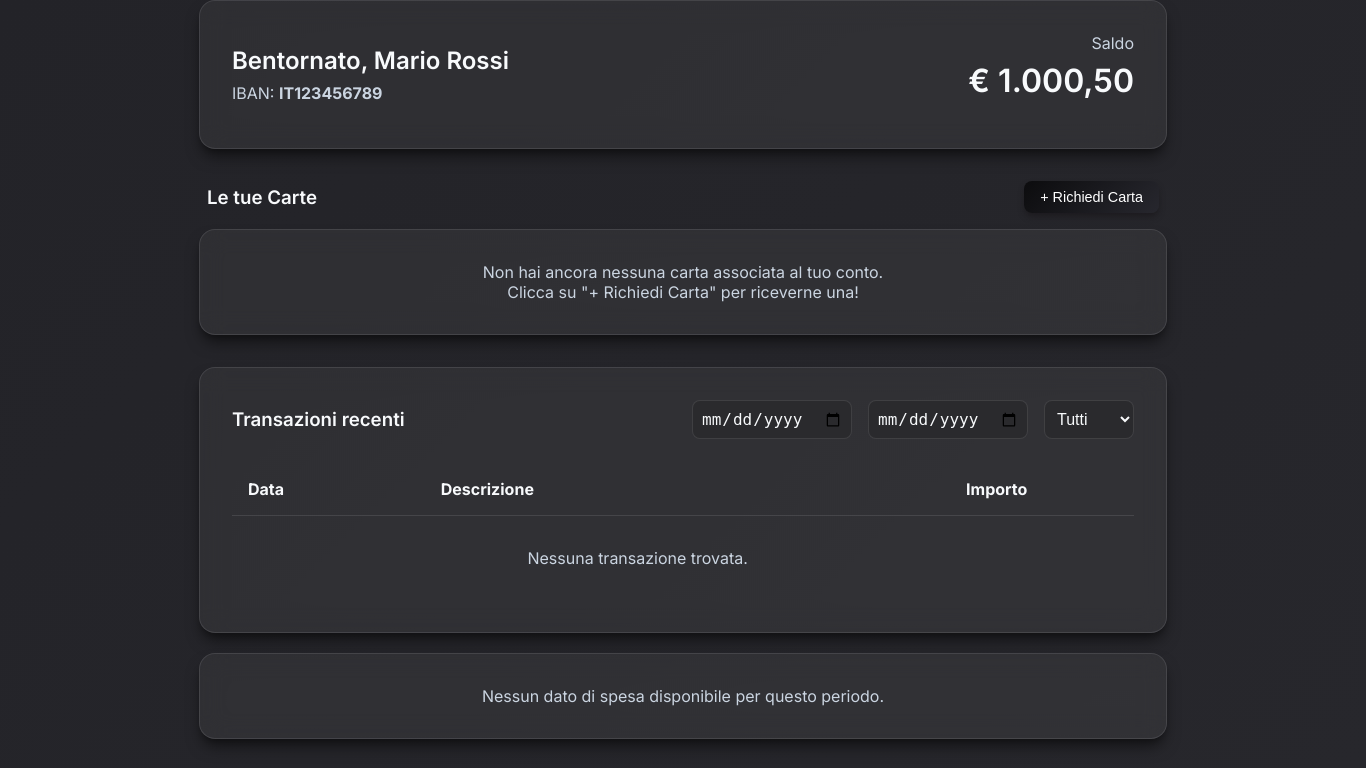
Scenario: Dashboard Page › opens request card modal when button clicked
Click the button "+ Richiedi Carta". click: (1092, 197)
box: [1024,181,1159,213]
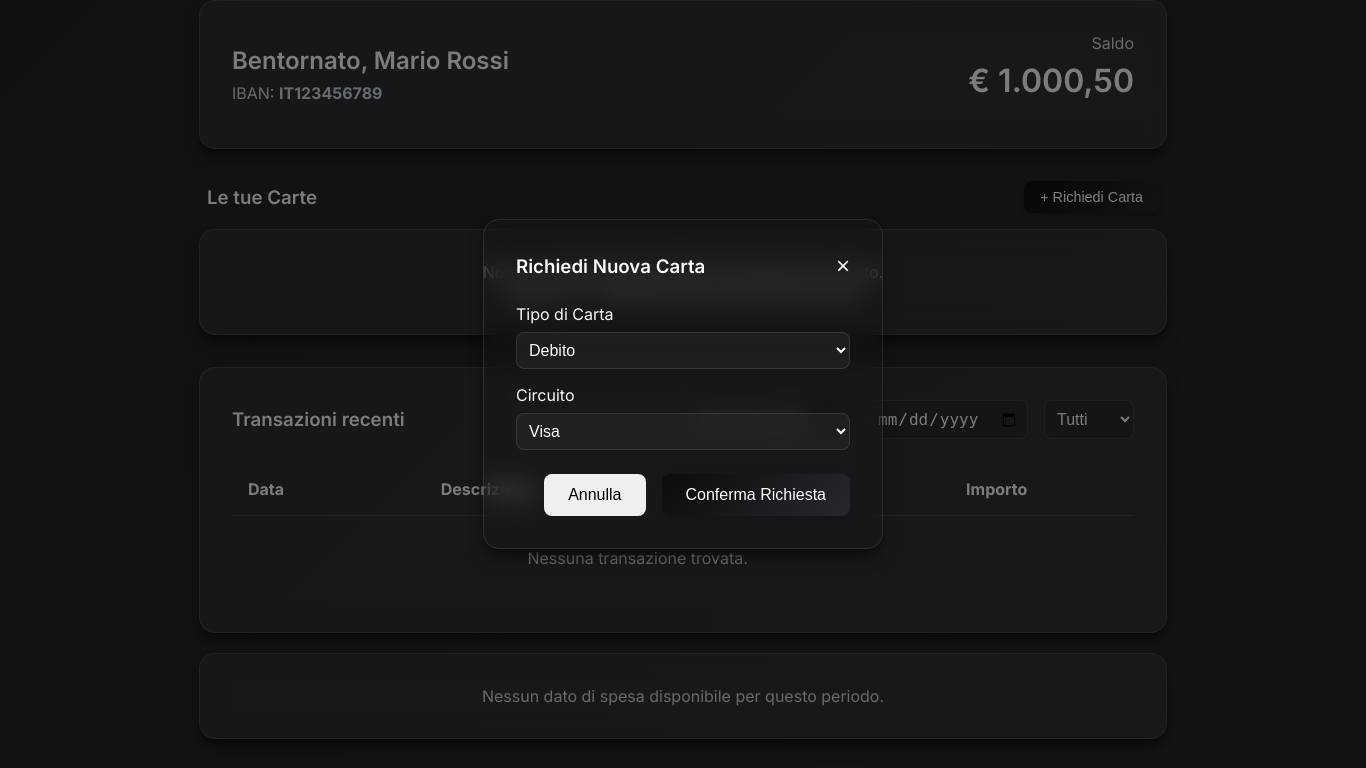
Check: the heading "Richiedi Nuova Carta" is shown, box [516,254,705,278]
